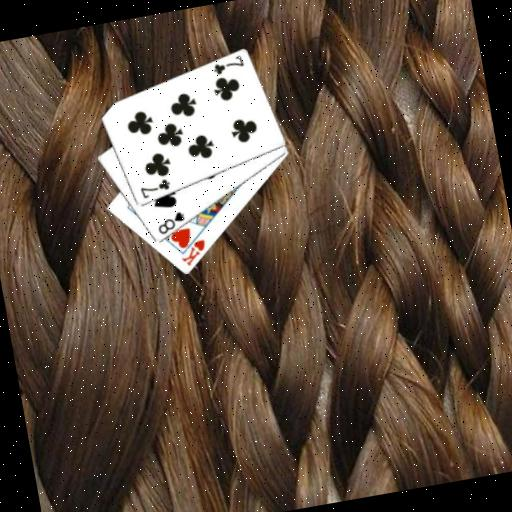7C: (135, 175, 173, 201), (208, 51, 246, 77)
8S: (152, 208, 188, 237)
KH: (175, 236, 210, 269)
